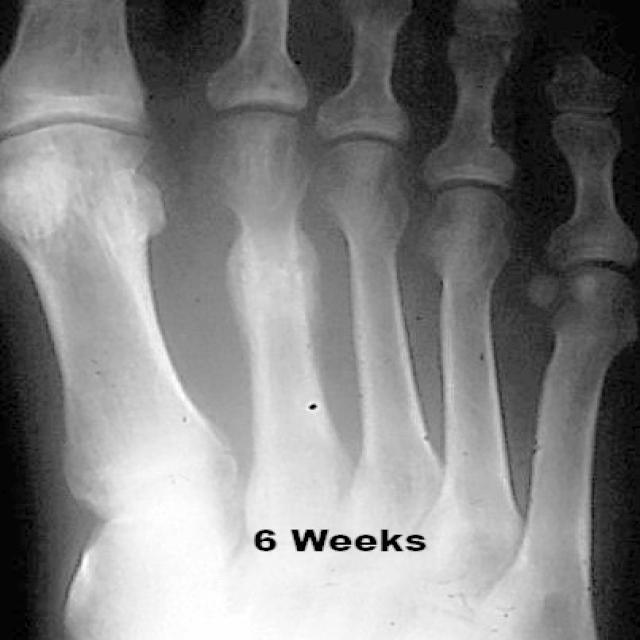HairLine Fracture: (224, 230, 314, 312)
